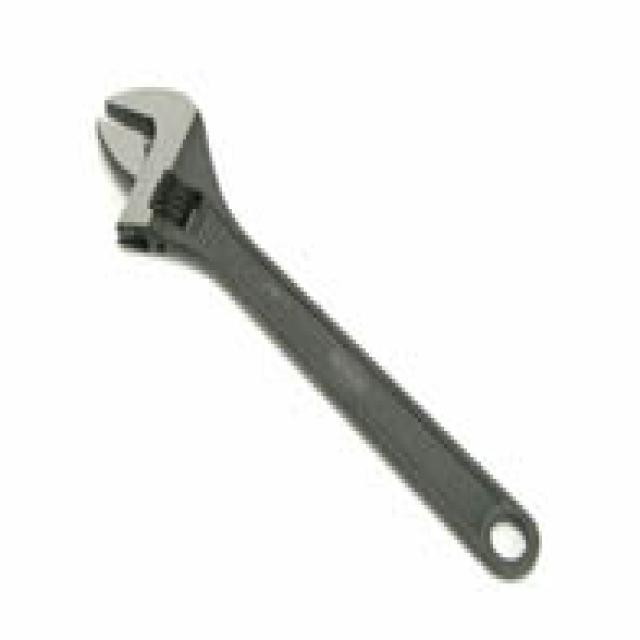wrench: (59, 45, 601, 586)
